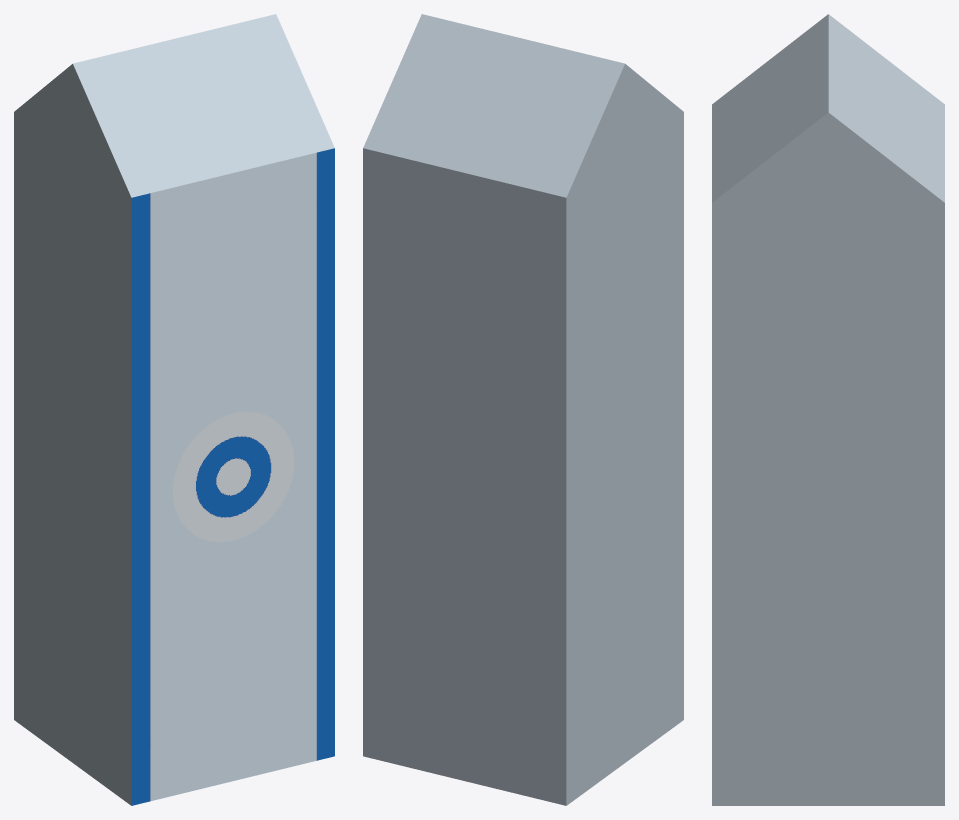
The model's file is Milk.fbx.
3 views of the same model, side by side, from view 1: azimuth 30°, elevation 25°; view 2: azimuth 150°, elevation 25°; view 3: azimuth 270°, elevation 25° (orthographic).
Visible parts, largest first — view 1: Milk; view 2: Milk; view 3: Milk.
Part boxes in pixels (x1,y1,x2,y2): Milk: [14, 14, 334, 805]; Milk: [363, 14, 683, 805]; Milk: [712, 14, 944, 805].
Size of the model in its own units: 0.07 by 0.23 by 0.07.
Materials: 2 (1 with a texture image).
